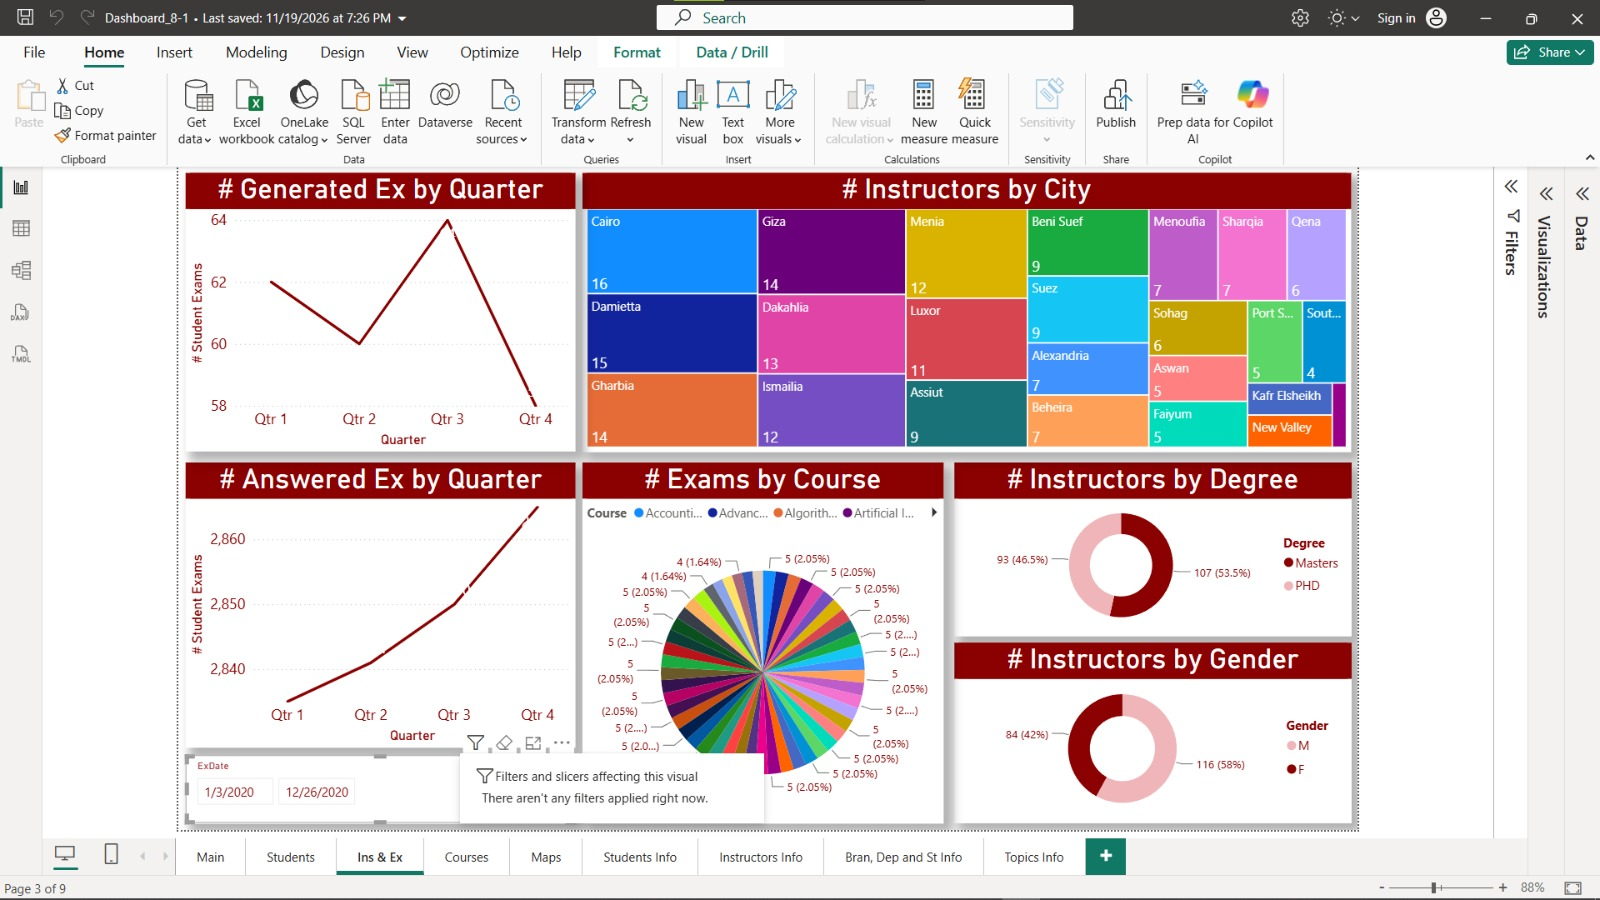

Layout of this report page (visuals, bound fields, positions):
{"tool":"powerbi","page":{"name":"Ins & Ex","canvas":[1280,720],"ordinal":2},"visuals":[{"type":"donutChart","title":"# Instructors by Degree","fields":{"Category":["Person Instructor.InsDegree"],"Y":["CountNonNull(Person Instructor.InsID)"]},"box":[842.1,321.2,431.2,189.1],"z":0},{"type":"donutChart","title":"# Instructors by Gender","fields":{"Category":["Person Instructor.InsGender"],"Y":["CountNonNull(Person Instructor.InsID)"]},"box":[842.1,517,431.2,195.8],"z":1000},{"type":"treemap","title":"# Instructors by City","fields":{"Group":["Person Instructor.InsCity"],"Values":["CountNonNull(Person Instructor.InsID)"]},"box":[438.9,6.8,834.4,302.9],"z":2000},{"type":"lineChart","fields":{"Category":["TestFlow Answers.Date.Variation.Date Hierarchy.Quarter","TestFlow Answers.Date.Variation.Date Hierarchy.Month","TestFlow Answers.Date.Variation.Date Hierarchy.Day"],"Y":["Count(TestFlow Answers.StID)"]},"box":[7.7,321,423.5,309.5],"z":3000},{"type":"pieChart","title":"# Exams by Course","fields":{"Category":["Syllabus Course.CrsName"],"Y":["CountNonNull(TestFlow Exam.ExID)"]},"box":[438.8,321,391.9,391.9],"z":4000},{"type":"lineChart","fields":{"Category":["TestFlow Exam.ExDate.Variation.Date Hierarchy.Quarter","TestFlow Exam.ExDate.Variation.Date Hierarchy.Month","TestFlow Exam.ExDate.Variation.Date Hierarchy.Day"],"Y":["CountNonNull(TestFlow Exam.ExID)"]},"box":[7.7,6.7,423.5,302.8],"z":5000},{"type":"slicer","fields":{"Values":["TestFlow Exam.ExDate"]},"box":[7.7,638.6,423.5,74.3],"z":6000}]}

Visuals, with their boxes on the page's 1280x720 design canvas (x1, y1, x2, y2). These are canvas units, not pixel positions in the 1600x900 screenshot, which may show the page scaled, cropped or inside an application window:
"# Instructors by Degree" donutChart: [left=842, top=321, right=1273, bottom=510]
"# Instructors by Gender" donutChart: [left=842, top=517, right=1273, bottom=713]
"# Instructors by City" treemap: [left=439, top=7, right=1273, bottom=310]
lineChart - TestFlow Answers.Date.Variation.Date Hierarchy.Quarter x TestFlow Answers.Date.Variation.Date Hierarchy.Month: [left=8, top=321, right=431, bottom=630]
"# Exams by Course" pieChart: [left=439, top=321, right=831, bottom=713]
lineChart - TestFlow Exam.ExDate.Variation.Date Hierarchy.Quarter x TestFlow Exam.ExDate.Variation.Date Hierarchy.Month: [left=8, top=7, right=431, bottom=310]
slicer - TestFlow Exam.ExDate: [left=8, top=639, right=431, bottom=713]
